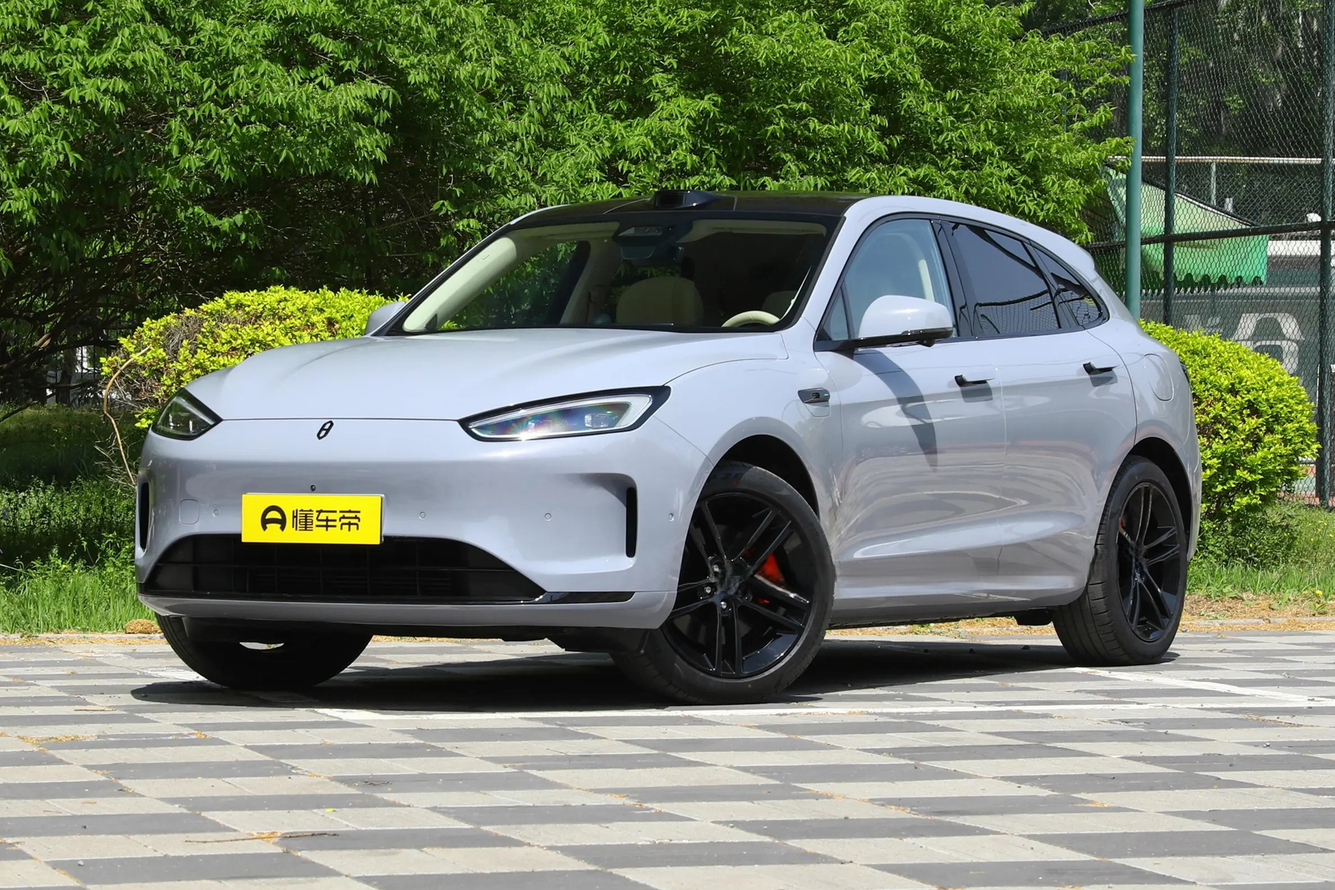AITO: (317, 420, 333, 439)
